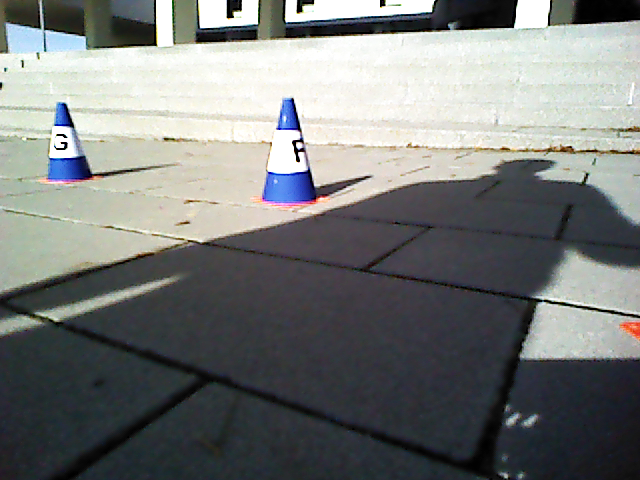bluecone: (264, 98, 316, 202), (46, 103, 91, 181)
